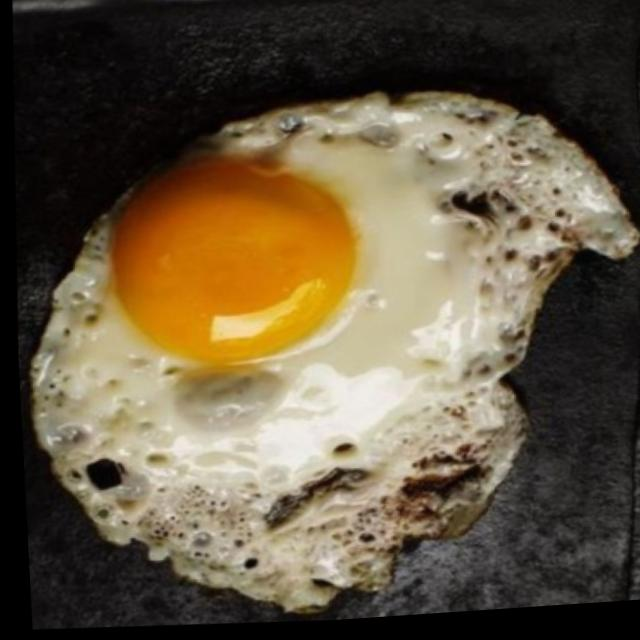EGG: (38, 82, 640, 609)
